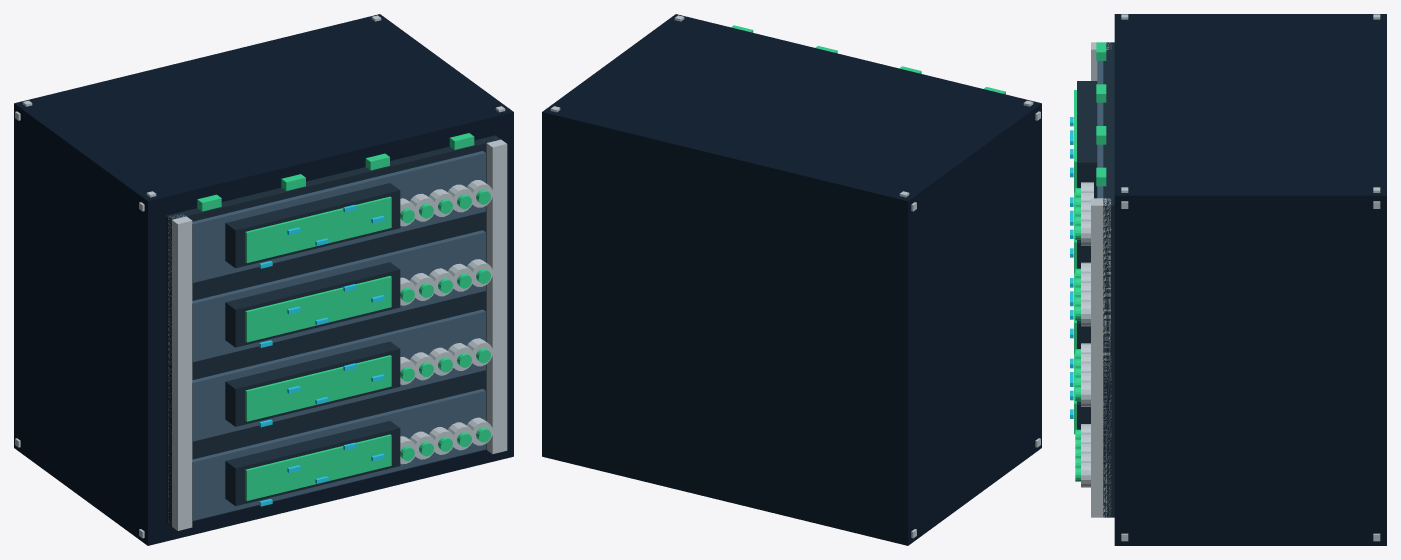
File: 66_L80_Regulated5VControlSupply.fbx
3 views of the same model, side by side, from view 1: azimuth 30°, elevation 25°; view 2: azimuth 150°, elevation 25°; view 3: azimuth 270°, elevation 25° (orthographic).
Parts seen in each view (by area): view 1: Regulated5VControlSupply; view 2: Regulated5VControlSupply; view 3: Regulated5VControlSupply.
Boxes of the visible parts, bbox=[...] form: Regulated5VControlSupply: bbox=[14, 14, 513, 545]; Regulated5VControlSupply: bbox=[542, 14, 1041, 545]; Regulated5VControlSupply: bbox=[1070, 14, 1386, 545].
Size of the model in its own units: 152 by 137 by 111.
